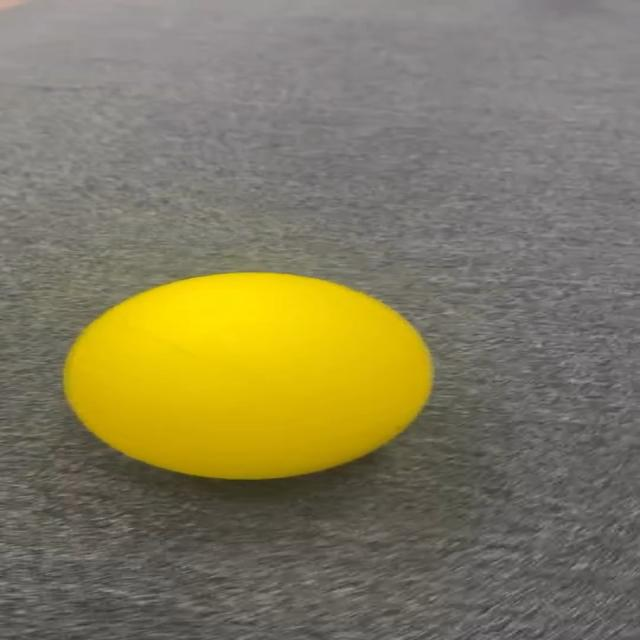Fuels: (63, 270, 429, 474)
